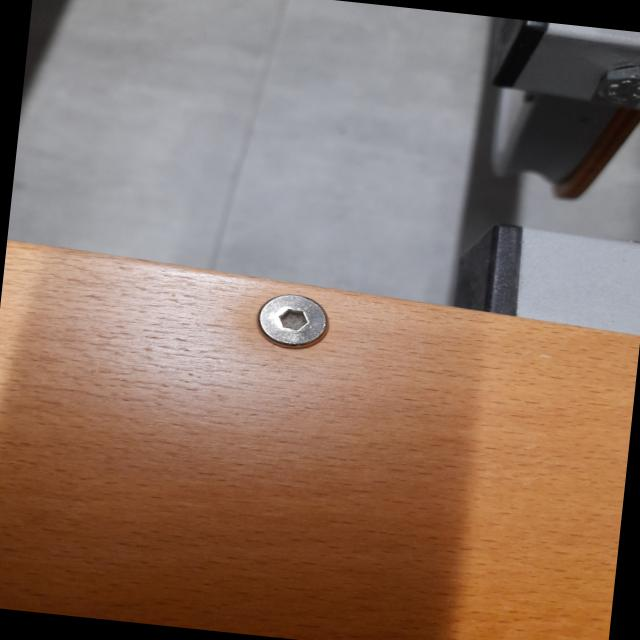Hex Socket Allen: (254, 288, 332, 353)
